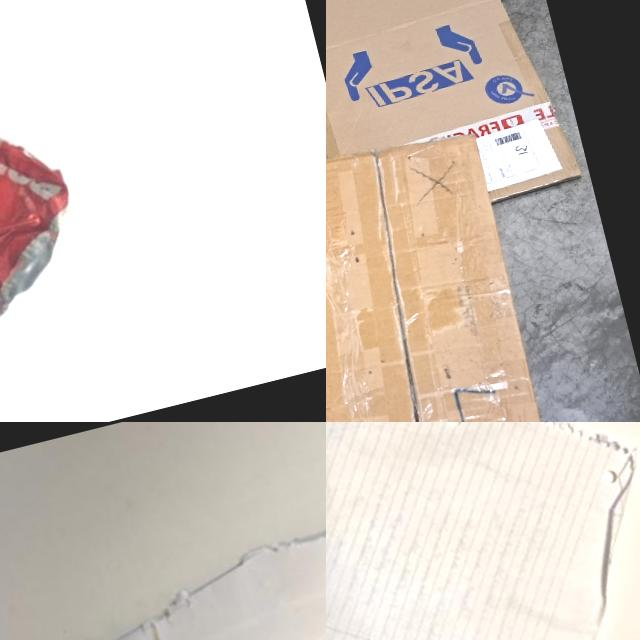lata: (0, 66, 100, 372)
papel: (0, 422, 326, 640), (326, 422, 640, 640)
papelão: (326, 0, 588, 291), (326, 120, 567, 422)
